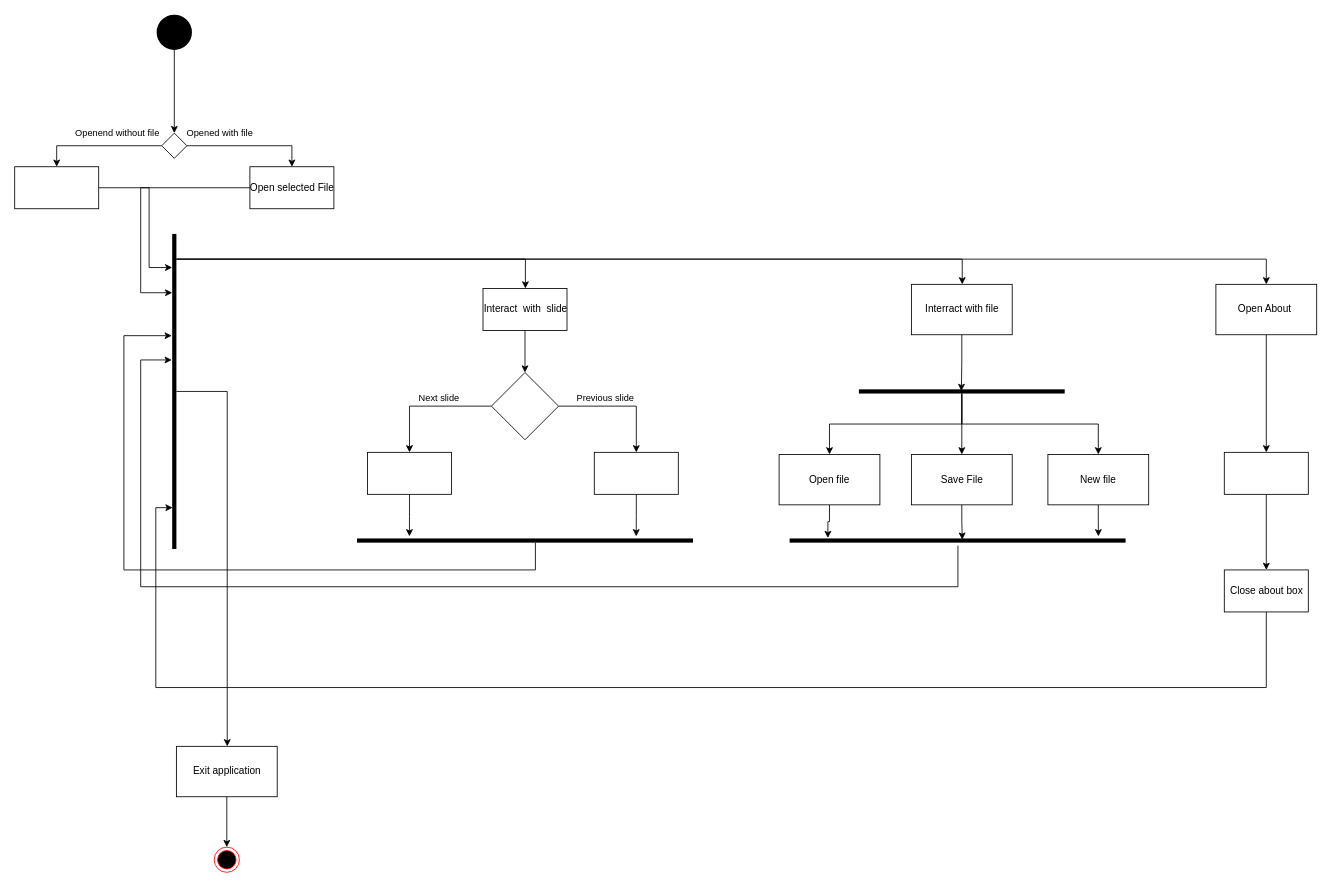
Some shapes in this 1331 by 887 pixel diagram are drawn without their labels. Here are the shapes that lost their labels. From the top down, the box of each, then its label:
(14, 166, 99, 209): Open default presentation
(367, 452, 452, 494): open Next Slide
(593, 452, 678, 494): open Previous slide
(1223, 452, 1308, 494): About box opens
